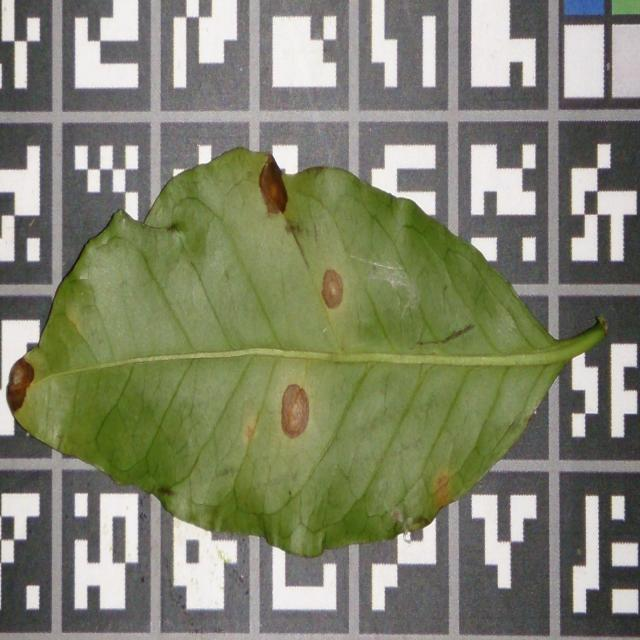Enfermedad-Mancha-de-hierro: (4, 149, 608, 561)
